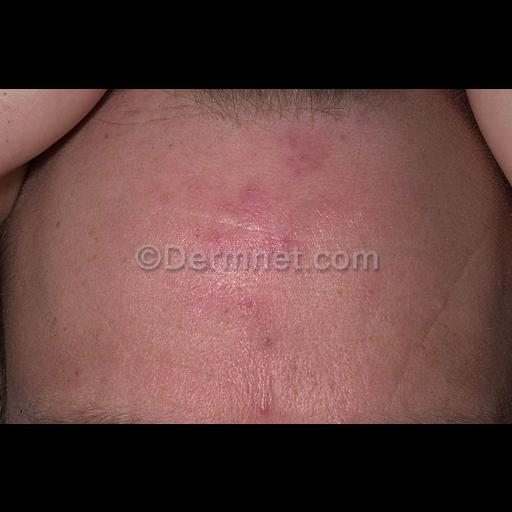Skin_Lesion: (193, 208, 305, 286), (232, 294, 262, 318), (258, 322, 280, 352), (241, 179, 267, 203), (428, 298, 452, 322), (256, 392, 276, 416), (317, 195, 333, 225), (290, 148, 310, 168), (67, 364, 83, 386)
